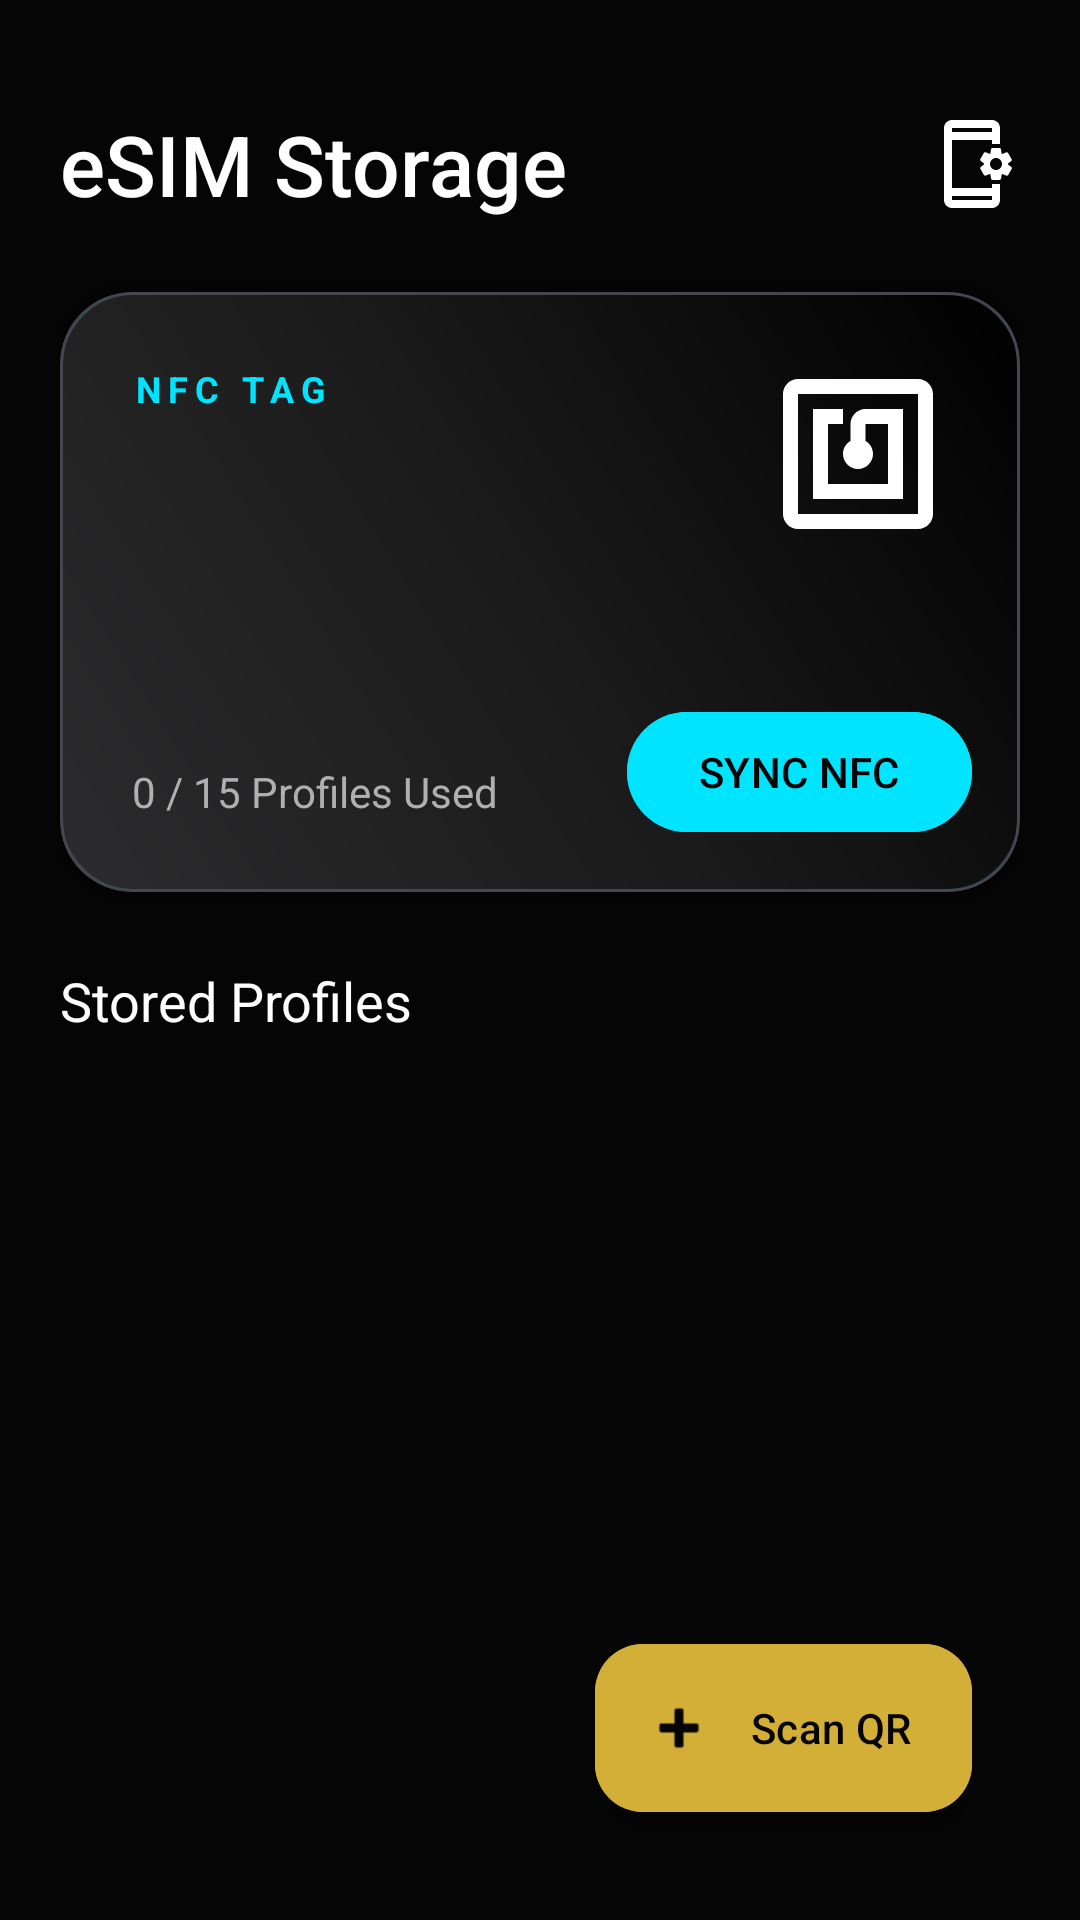

Screen size 1080 × 1920. Icon name, then its box in pixels as (x1, y1, x2, y2):
settings: (944, 120, 1012, 208)
